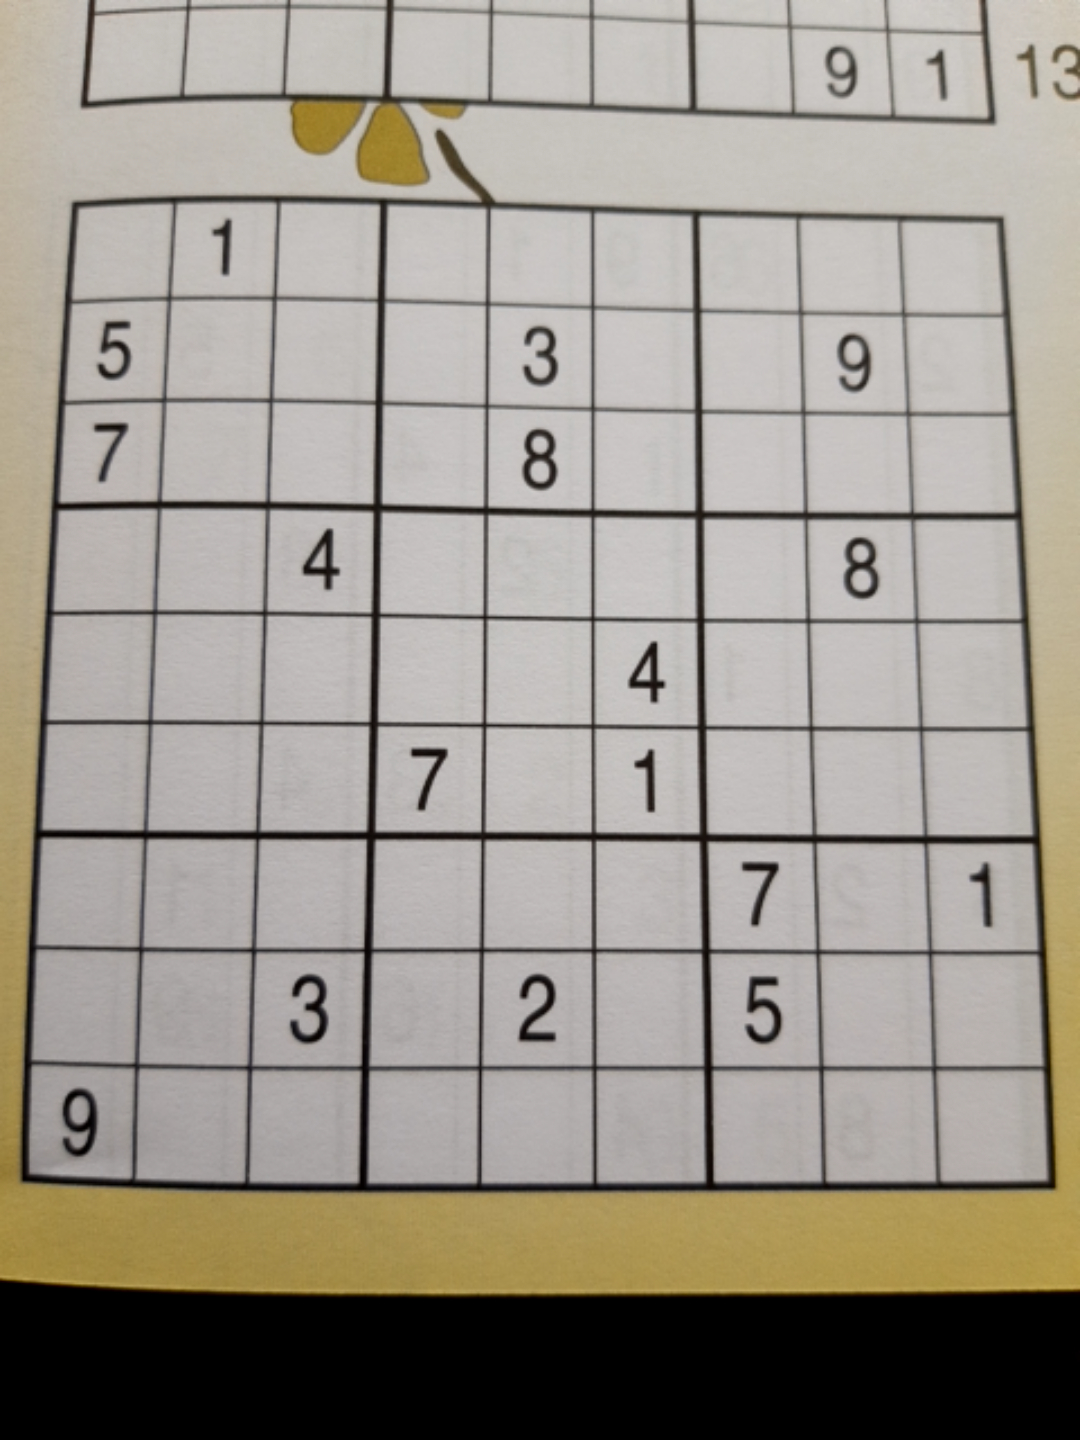sudoku: (17, 193, 1057, 1191)
